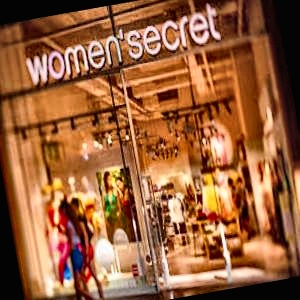women_secret: (219, 0, 238, 3)
